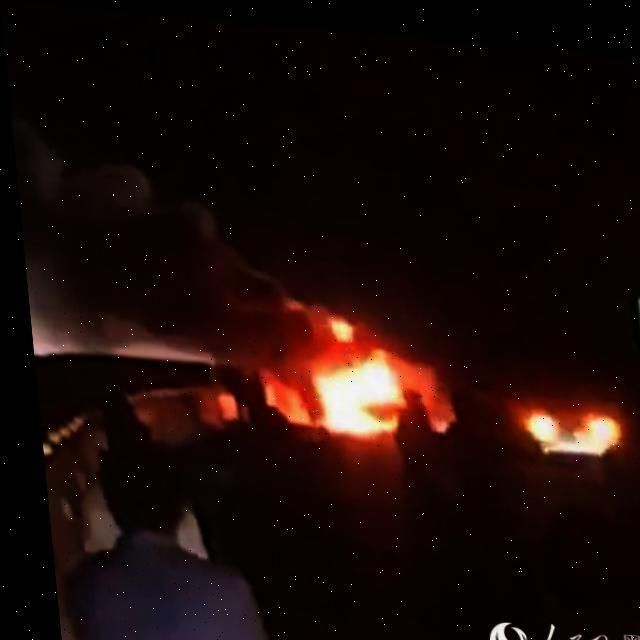Fire: (298, 300, 406, 446), (254, 362, 305, 424)
